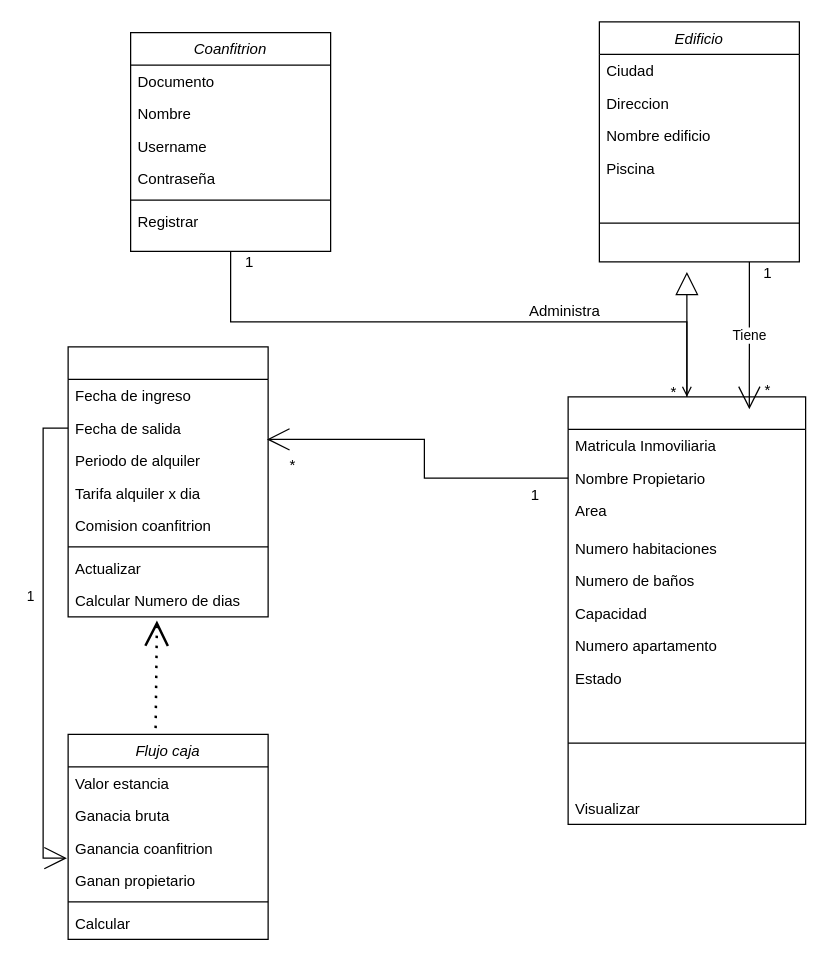
The diagram is 828 pixels wide and 965 high, and some of its shapes have lost their labels. Each missing label, with the box of its shape:
Contrato: (67, 346, 268, 617)
Inmueble: (567, 396, 806, 824)
